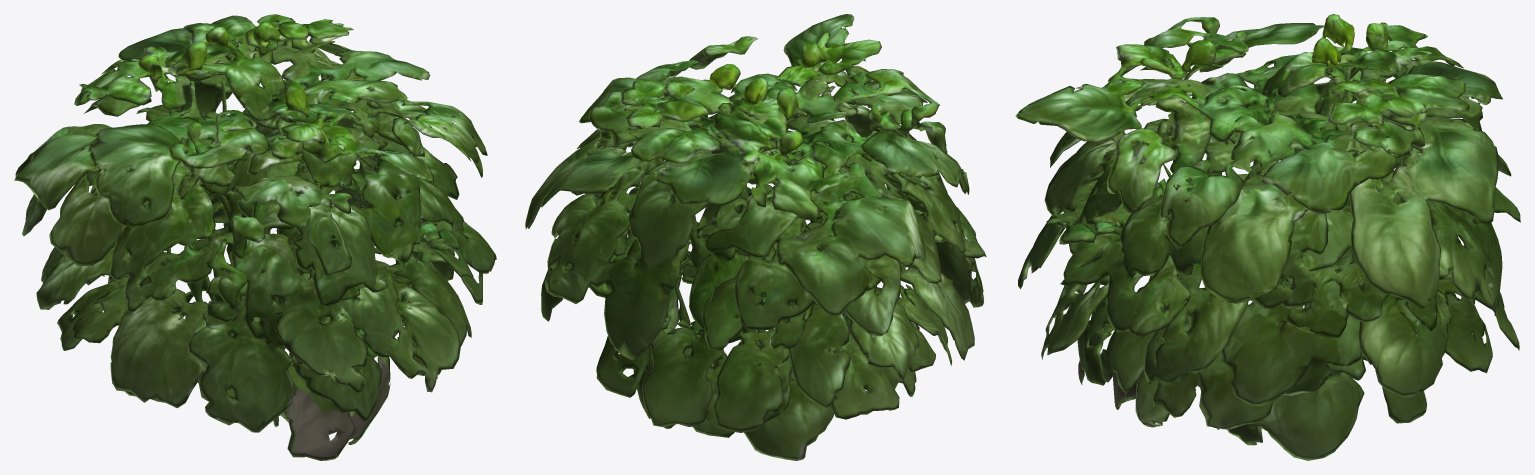
Rendered from Basil.glb.
3 renders of one model, left to right at view 1: azimuth 30°, elevation 25°; view 2: azimuth 150°, elevation 25°; view 3: azimuth 270°, elevation 25°, orthographic. The views are drawn at different scales.
Bounding box in the file's own units: 1.95 × 1.72 × 2.
1 material, 1 textured.
